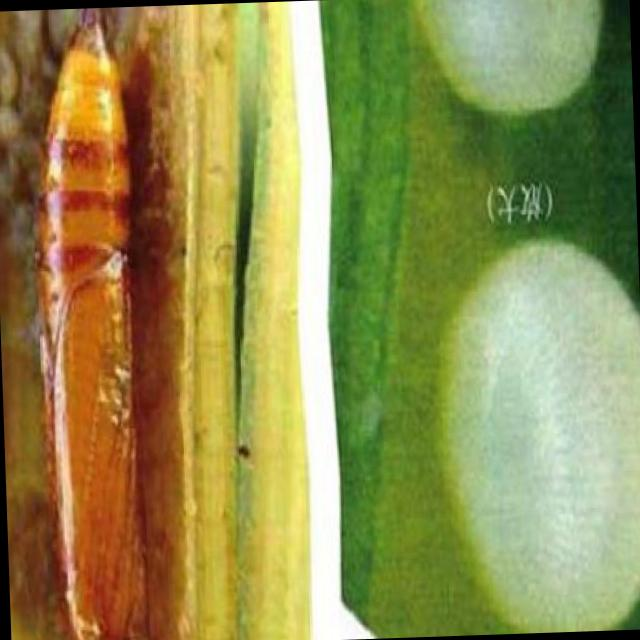whorl-maggot: (34, 6, 155, 640)
